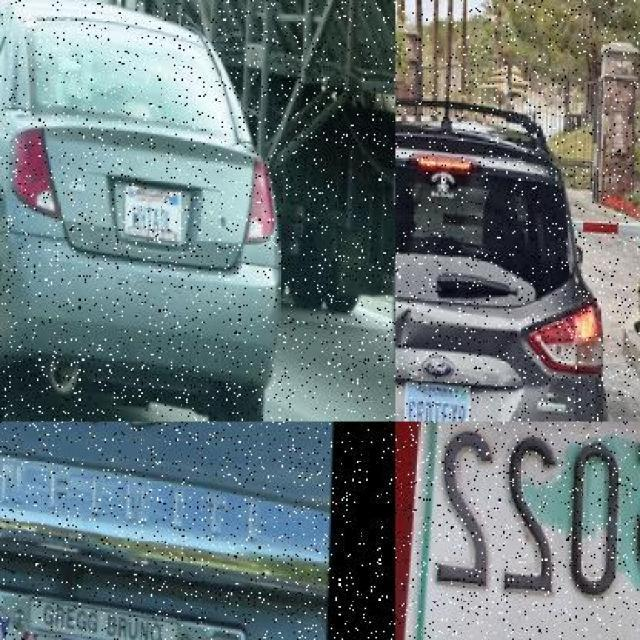LicensePlate: (431, 421, 640, 640), (126, 178, 189, 238), (405, 373, 472, 421)
